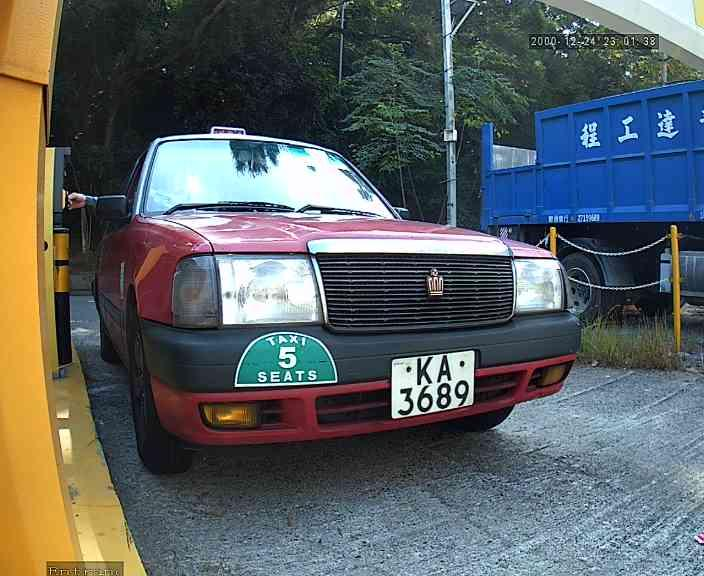Car: (67, 13, 595, 505)
License Plate: (378, 345, 485, 425)
